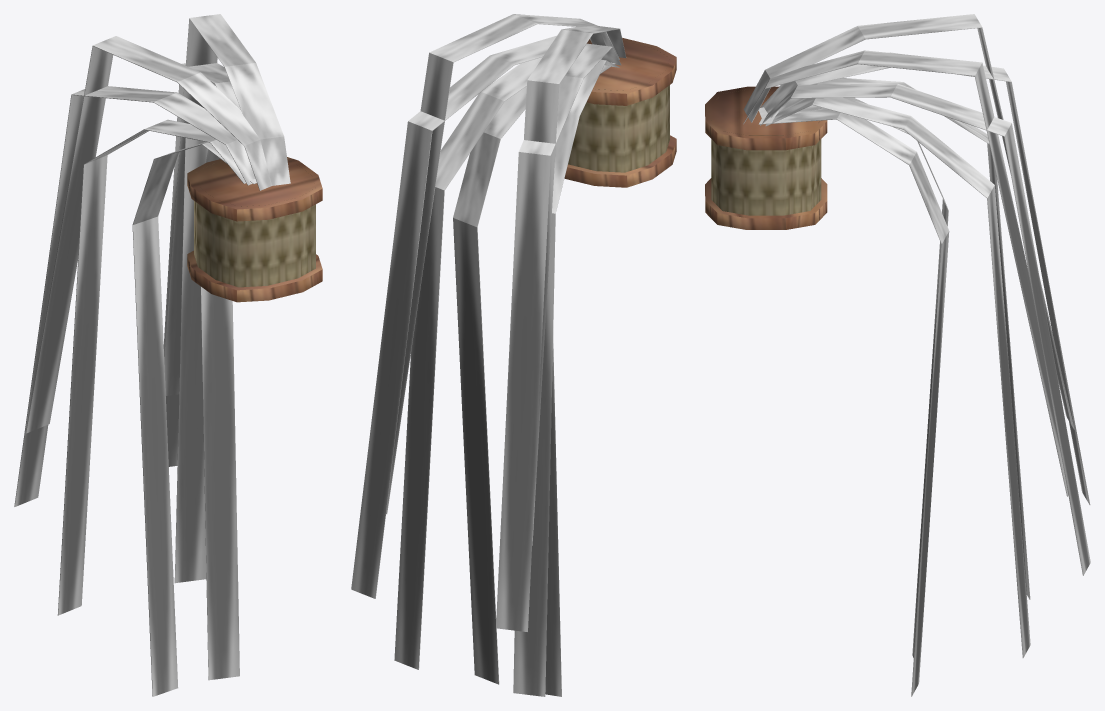
The model's file is helmet_ari_2.dae.
3 views of the same model, side by side, from view 1: azimuth 30°, elevation 25°; view 2: azimuth 150°, elevation 25°; view 3: azimuth 270°, elevation 25° (orthographic). The views are drawn at different scales.
Parts seen in each view (by area): view 1: helmet_ari_2; view 2: helmet_ari_2; view 3: helmet_ari_2.
Part boxes in pixels (box(x1,y1,x2,y2)): helmet_ari_2: box(14, 14, 322, 696); helmet_ari_2: box(351, 14, 676, 696); helmet_ari_2: box(705, 14, 1090, 696).
Bounding box in the file's own units: 0.8669 × 1.68 × 3.03.
